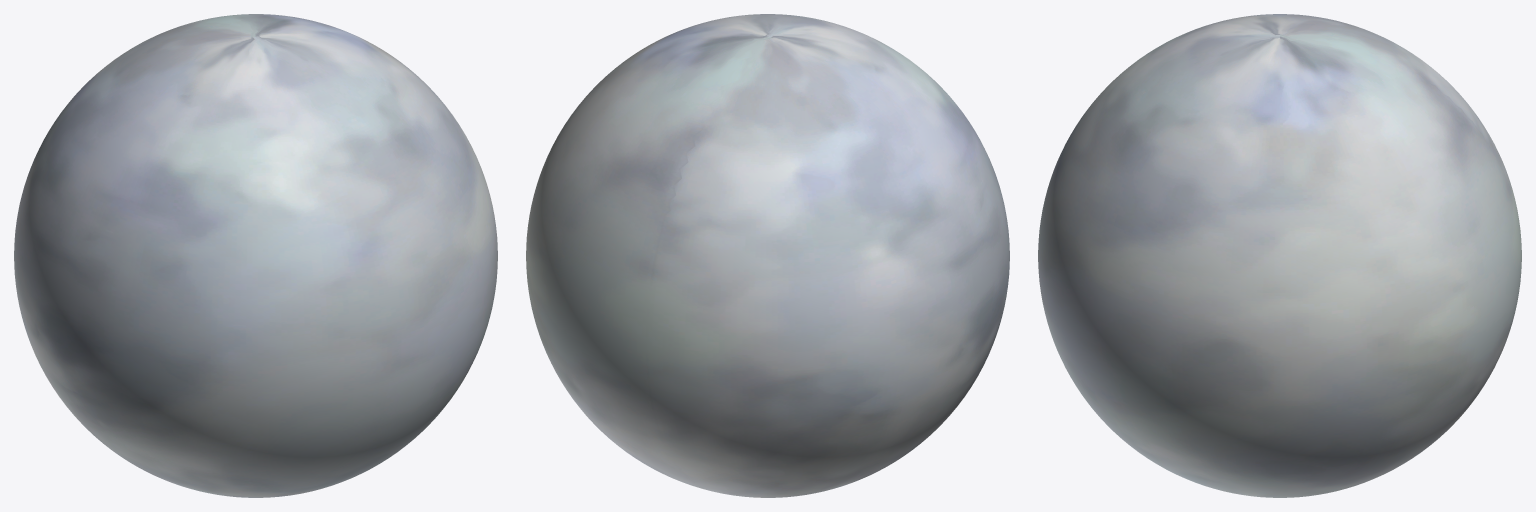
Rendered from Proxy_QM.glb.
3 views of the same model, side by side, from view 1: azimuth 30°, elevation 25°; view 2: azimuth 150°, elevation 25°; view 3: azimuth 270°, elevation 25° (orthographic).
Visible parts, largest first — view 1: CloudsTopLayer_QM; view 2: CloudsTopLayer_QM; view 3: CloudsTopLayer_QM.
Boxes of the visible parts, <box> form: CloudsTopLayer_QM: <box>14,14,497,497</box>; CloudsTopLayer_QM: <box>526,14,1009,497</box>; CloudsTopLayer_QM: <box>1038,14,1521,497</box>.
Bounding box in the file's own units: 2 × 2 × 2.
Materials: 1 (1 with a texture image).
